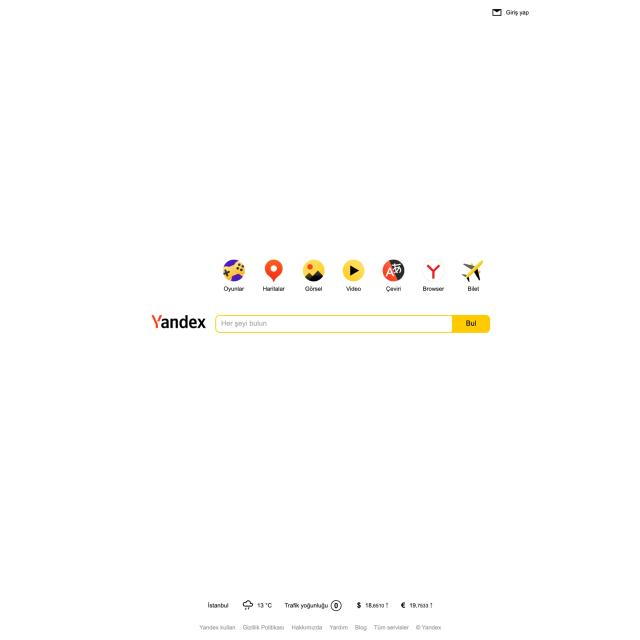footer: (0, 569, 640, 640)
input: (214, 311, 492, 336)
logo: (148, 305, 210, 339)
